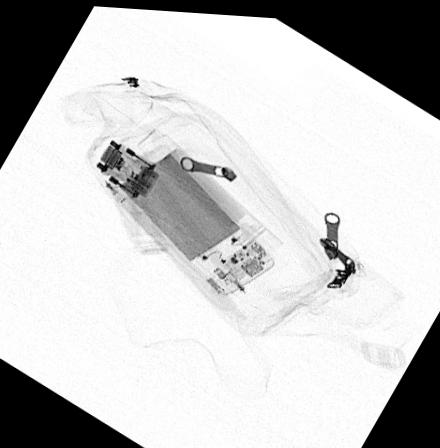Powerbank: (108, 140, 274, 292)
